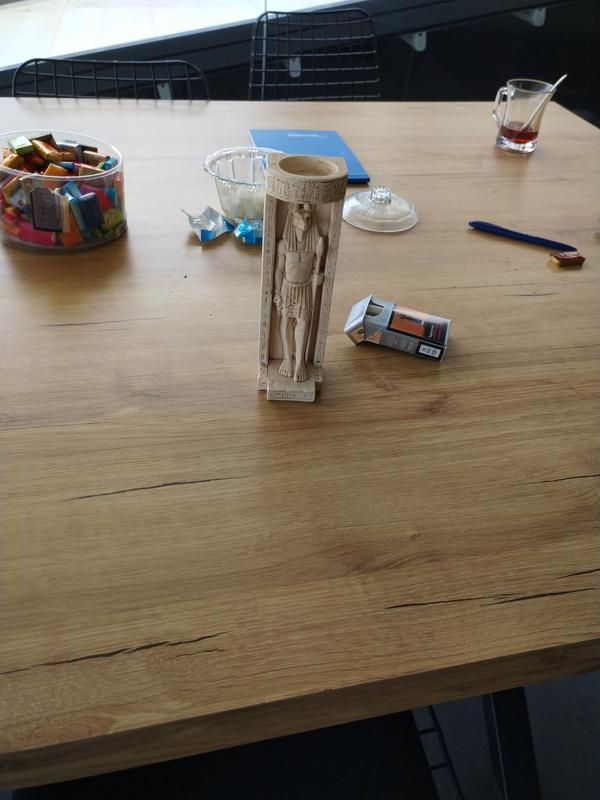heykel: (252, 147, 352, 418)
